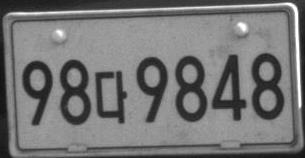4: (210, 53, 247, 121)
8: (250, 51, 285, 121), (174, 54, 208, 124), (58, 58, 92, 126)
9: (20, 59, 54, 126), (135, 55, 168, 122)
다: (94, 70, 127, 124)
